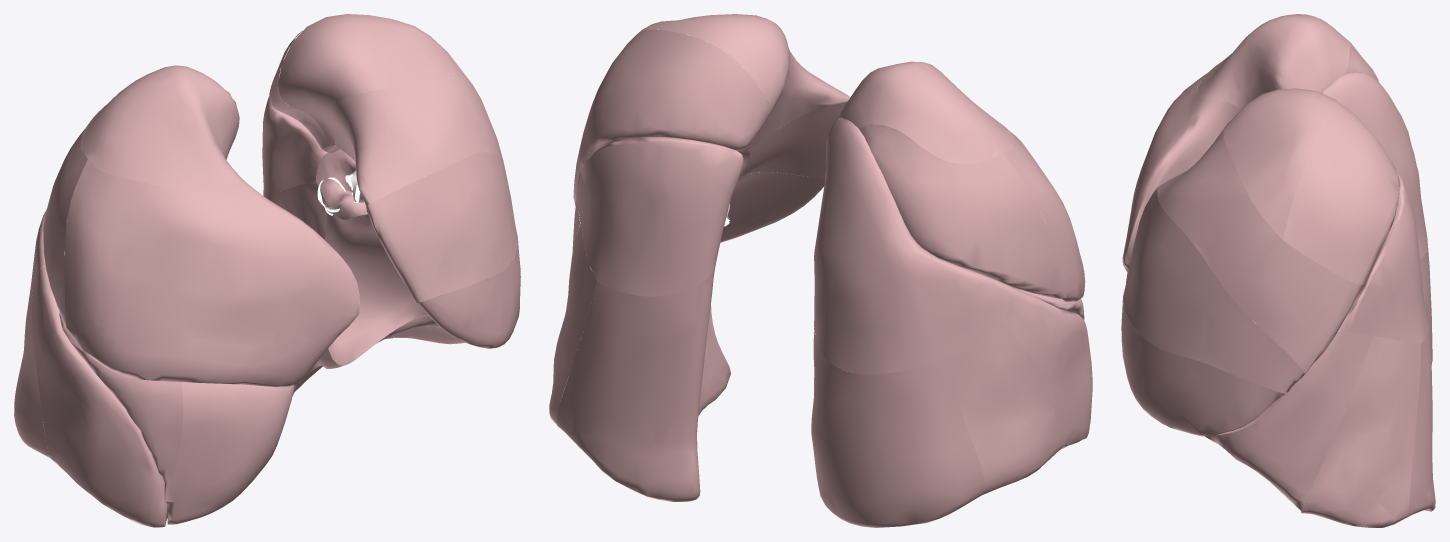
Rendered from 3d-vh-f-lung-40.glb.
3 views of the same model, side by side, from view 1: azimuth 30°, elevation 25°; view 2: azimuth 150°, elevation 25°; view 3: azimuth 270°, elevation 25° (orthographic). The views are drawn at different scales.
Parts seen in each view (by area): view 1: VH_F_right_anterior_bronchopulmonary_segm, VH_F_right_anterior_basal_bronchopulmonary_segment, VH_F_lingula_superior_bronchopulmonary_segment, VH_F_right_apical_bronchopulmonary_segment, VH_F_left_anterior_bronchopulmonary_segment, VH_F_left_apical_bronchopulmonary_segment, VH_F_right_medial_bronchopulmonary_segment, VH_F_left_medial_basal_bronchopulmonary_segment, VH_F_lingula_inferior_bronchopulmonary_segment, VH_F_right_lateral_bronchopulmonary_segmennt, VH_F_left_superior_bronchopulmonary_segment, VH_F_right_posterior_bronchopulmonary_segment (+6 smaller); view 2: VH_F_right_superior_bronchopulmonary_segment, VH_F_left_posterior_basal_bronchopulmonary_segment, VH_F_right_posterior_basal_bronchopulmonary_segment, VH_F_left_superior_bronchopulmonary_segment, VH_F_right_posterior_bronchopulmonary_segment, VH_F_left_posterior_bronchopulmonary_segment, VH_F_right_lateral_basal_bronchopulmonary_segment, VH_F_right_apical_bronchopulmonary_segment, VH_F_right_anterior_basal_bronchopulmonary_segment, VH_F_left_apical_bronchopulmonary_segment, VH_F_lingula_inferior_bronchopulmonary_segment, VH_F_lingula_superior_bronchopulmonary_segment (+3 smaller); view 3: VH_F_left_anterior_bronchopulmonary_segment, VH_F_lingula_superior_bronchopulmonary_segment, VH_F_left_lateral_basal_bronchopulmonary_segment, VH_F_left_posterior_bronchopulmonary_segment, VH_F_left_anterior_basal_bronchopulmonary_segment, VH_F_lingula_inferior_bronchopulmonary_segment, VH_F_left_apical_bronchopulmonary_segment, VH_F_right_apical_bronchopulmonary_segment, VH_F_left_superior_bronchopulmonary_segment, VH_F_right_anterior_bronchopulmonary_segm, VH_F_right_superior_bronchopulmonary_segment, VH_F_left_posterior_basal_bronchopulmonary_segment (+2 smaller).
Part boxes in pixels (left/top/right/bottom): VH_F_right_anterior_bronchopulmonary_segm: left=64, top=159, right=359, bottom=387; VH_F_right_anterior_basal_bronchopulmonary_segment: left=32, top=266, right=167, bottom=527; VH_F_lingula_superior_bronchopulmonary_segment: left=365, top=152, right=517, bottom=302; VH_F_right_apical_bronchopulmonary_segment: left=81, top=65, right=239, bottom=193; VH_F_left_anterior_bronchopulmonary_segment: left=329, top=78, right=503, bottom=204; VH_F_left_apical_bronchopulmonary_segment: left=278, top=14, right=470, bottom=145; VH_F_right_medial_bronchopulmonary_segment: left=165, top=382, right=293, bottom=524; VH_F_left_medial_basal_bronchopulmonary_segment: left=325, top=205, right=426, bottom=365; VH_F_lingula_inferior_bronchopulmonary_segment: left=417, top=241, right=520, bottom=348; VH_F_right_lateral_bronchopulmonary_segmennt: left=59, top=311, right=183, bottom=500; VH_F_left_superior_bronchopulmonary_segment: left=262, top=78, right=335, bottom=197; VH_F_right_posterior_bronchopulmonary_segment: left=43, top=128, right=87, bottom=325; VH_F_right_superior_bronchopulmonary_segment: left=814, top=118, right=1014, bottom=374; VH_F_left_posterior_basal_bronchopulmonary_segment: left=556, top=264, right=730, bottom=501; VH_F_right_posterior_basal_bronchopulmonary_segment: left=811, top=324, right=984, bottom=527; VH_F_left_superior_bronchopulmonary_segment: left=576, top=137, right=743, bottom=296; VH_F_right_posterior_bronchopulmonary_segment: left=859, top=124, right=1065, bottom=298; VH_F_left_posterior_bronchopulmonary_segment: left=580, top=29, right=770, bottom=164; VH_F_right_lateral_basal_bronchopulmonary_segment: left=950, top=323, right=1060, bottom=494; VH_F_right_apical_bronchopulmonary_segment: left=838, top=61, right=1013, bottom=163; VH_F_right_anterior_basal_bronchopulmonary_segment: left=1001, top=288, right=1092, bottom=450; VH_F_left_apical_bronchopulmonary_segment: left=635, top=14, right=789, bottom=114; VH_F_lingula_inferior_bronchopulmonary_segment: left=720, top=172, right=824, bottom=242; VH_F_lingula_superior_bronchopulmonary_segment: left=740, top=101, right=847, bottom=178; VH_F_left_anterior_bronchopulmonary_segment: left=1156, top=130, right=1363, bottom=373; VH_F_lingula_superior_bronchopulmonary_segment: left=1123, top=188, right=1305, bottom=393; VH_F_left_lateral_basal_bronchopulmonary_segment: left=1301, top=336, right=1421, bottom=527; VH_F_left_posterior_bronchopulmonary_segment: left=1283, top=101, right=1399, bottom=284; VH_F_left_anterior_basal_bronchopulmonary_segment: left=1205, top=330, right=1372, bottom=512; VH_F_lingula_inferior_bronchopulmonary_segment: left=1121, top=300, right=1285, bottom=436; VH_F_left_apical_bronchopulmonary_segment: left=1223, top=88, right=1336, bottom=239; VH_F_right_apical_bronchopulmonary_segment: left=1196, top=14, right=1350, bottom=109; VH_F_left_superior_bronchopulmonary_segment: left=1337, top=174, right=1428, bottom=343; VH_F_right_anterior_bronchopulmonary_segm: left=1122, top=73, right=1240, bottom=273; VH_F_right_superior_bronchopulmonary_segment: left=1321, top=71, right=1427, bottom=259; VH_F_left_posterior_basal_bronchopulmonary_segment: left=1407, top=329, right=1435, bottom=517.
Size of the model in its own units: 0.2512 by 0.2231 by 0.1526.
